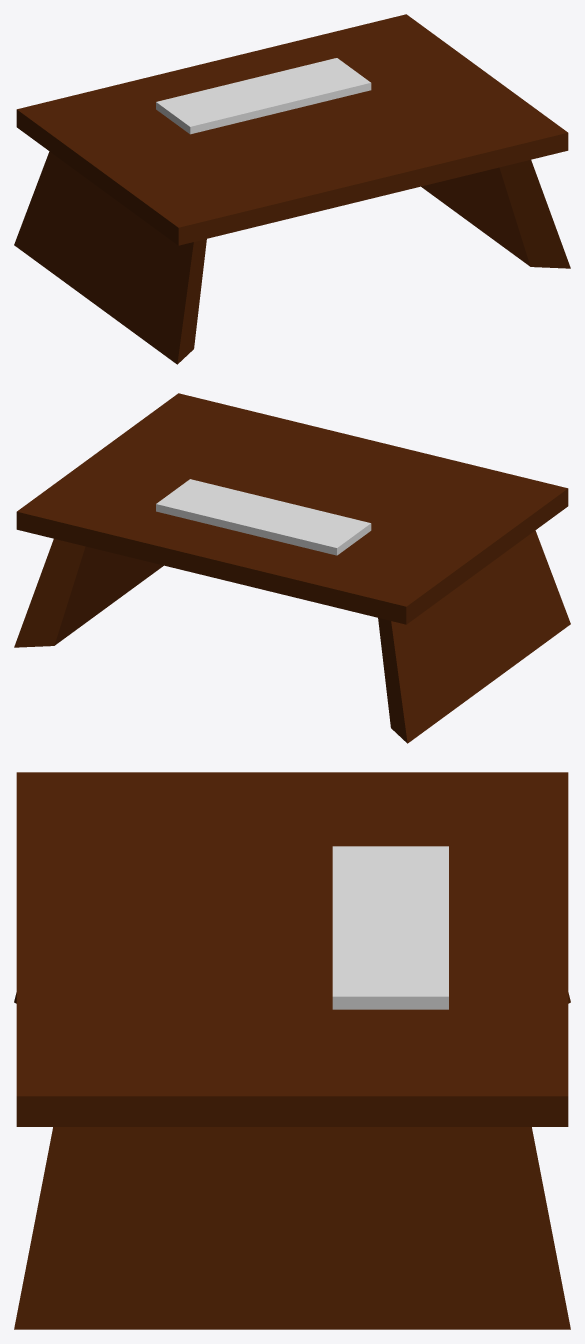
File: copyTable.fbx
3 renders of one model, top to bottom at view 1: azimuth 30°, elevation 25°; view 2: azimuth 150°, elevation 25°; view 3: azimuth 270°, elevation 25°, orthographic. The views are drawn at different scales.
Parts seen in each view (by area): view 1: copyTable; view 2: copyTable; view 3: copyTable.
Boxes of the visible parts, x1=… form: copyTable: x1=14, y1=14, x2=570, y2=364; copyTable: x1=14, y1=393, x2=570, y2=743; copyTable: x1=14, y1=772, x2=570, y2=1329.
Bounding box in the file's own units: 202 × 70.34 × 145.
